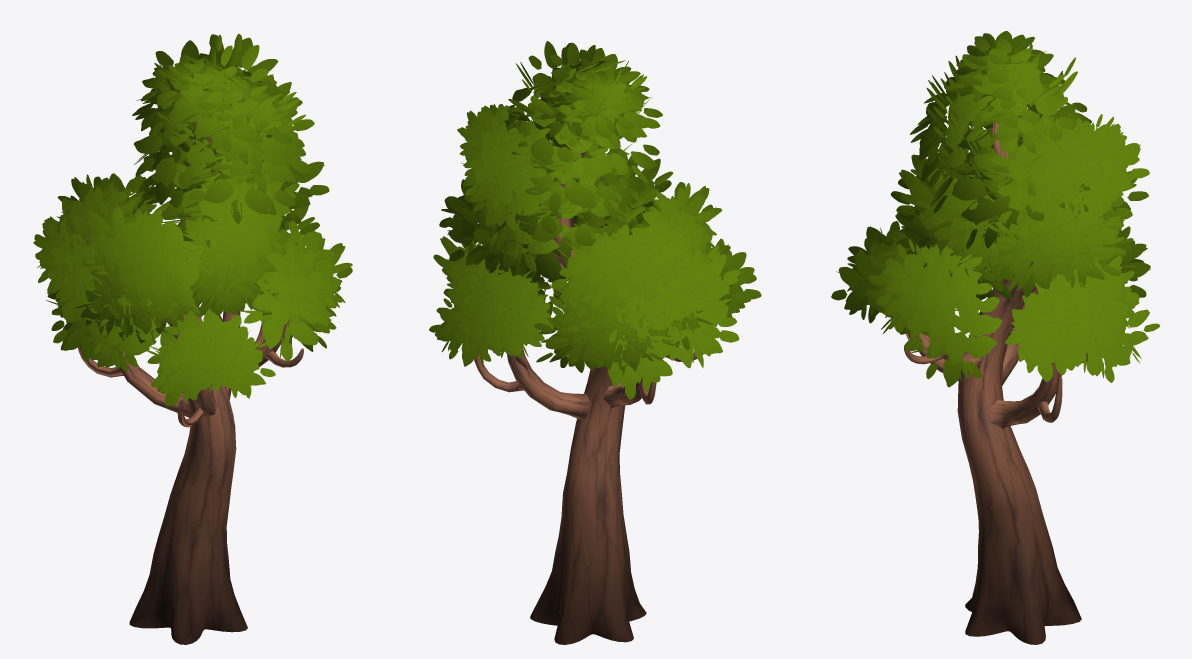
File: CommonTree_2.glb
3 renders of one model, left to right at view 1: azimuth 30°, elevation 25°; view 2: azimuth 150°, elevation 25°; view 3: azimuth 270°, elevation 25°, orthographic. The views are drawn at different scales.
Parts seen in each view (by area): view 1: CommonTree_2; view 2: CommonTree_2; view 3: CommonTree_2.
Boxes of the visible parts, x1,y1,x2,y2 form: CommonTree_2: [33, 34, 352, 644]; CommonTree_2: [429, 41, 761, 644]; CommonTree_2: [831, 31, 1159, 644].
Size of the model in its own units: 4.46 by 7.64 by 4.28.
2 materials, 2 textured.
